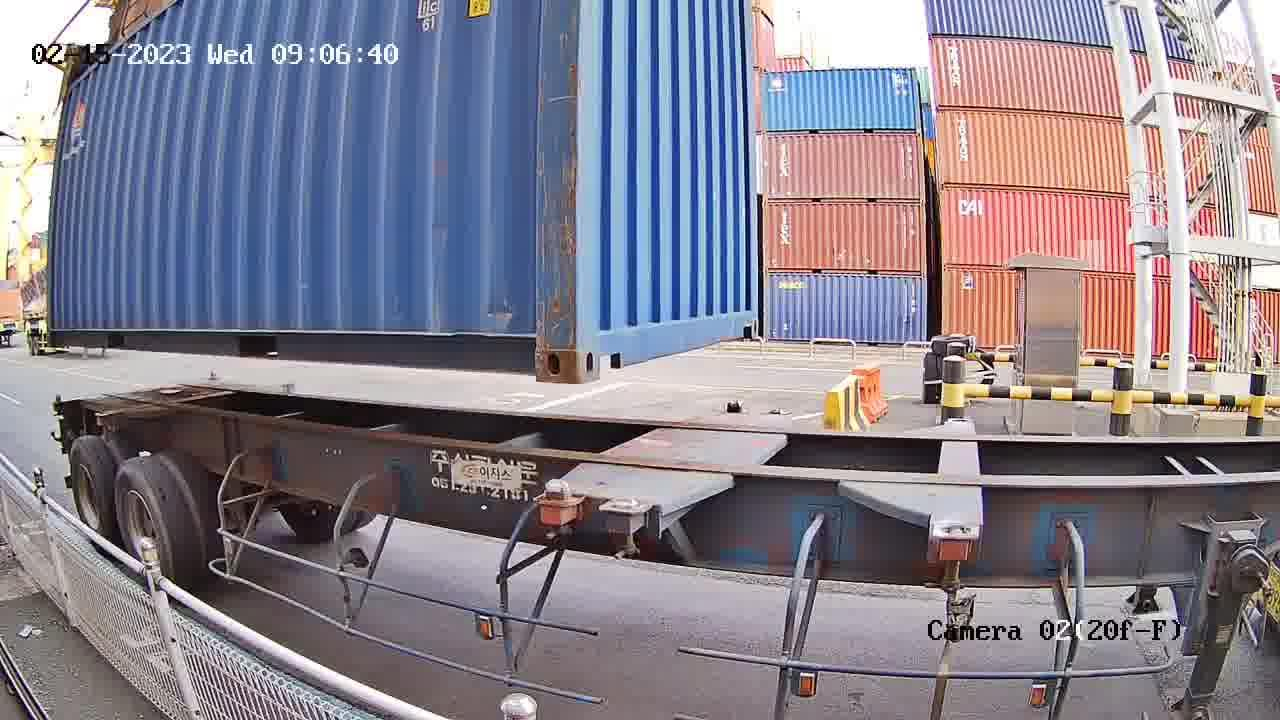Cone: (536, 475, 577, 532), (722, 397, 750, 417)
Hole_L: (575, 301, 636, 385)
Hole_R: (489, 304, 575, 385), (726, 292, 759, 340)
Tire: (114, 465, 177, 578), (69, 440, 114, 539)
